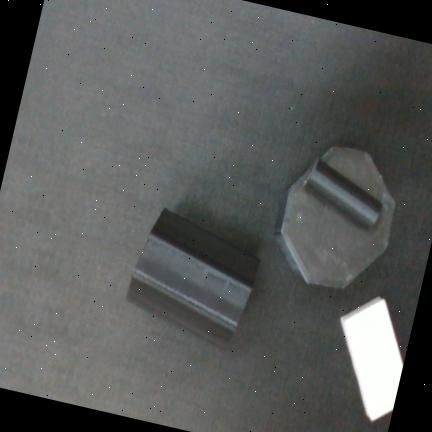Cilindro: (304, 157, 383, 231)
Paralelepipedo: (339, 295, 403, 423)
Prisma_hexagonal: (126, 208, 260, 347), (274, 145, 397, 291)
